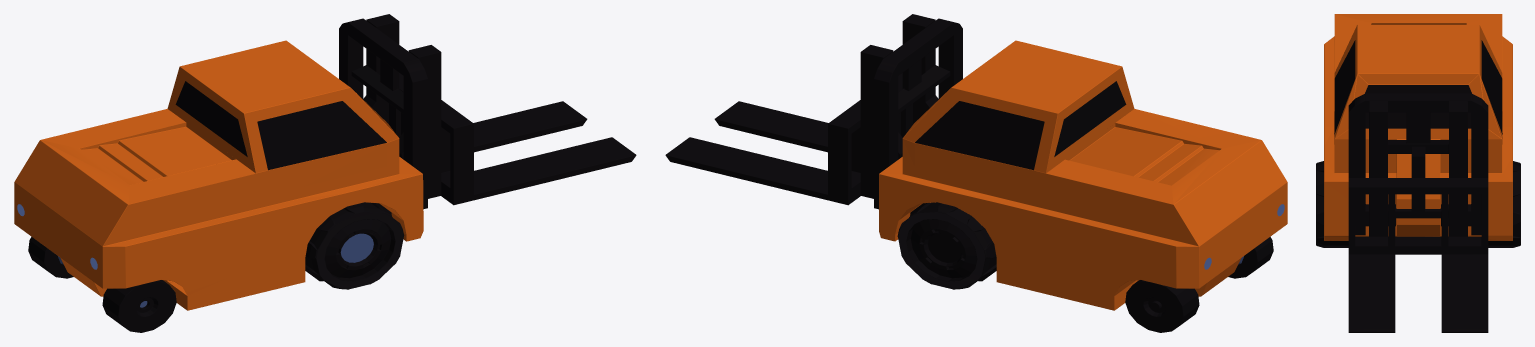
Rendered from Lift-Truck.fbx.
3 renders of one model, left to right at view 1: azimuth 30°, elevation 25°; view 2: azimuth 150°, elevation 25°; view 3: azimuth 270°, elevation 25°, orthographic. The views are drawn at different scales.
Parts seen in each view (by area): view 1: Forklift; view 2: Forklift; view 3: Forklift.
Part boxes in pixels (x1,y1,x2,y2): Forklift: (14,14,636,332); Forklift: (665,14,1287,332); Forklift: (1316,14,1520,332).
Bounding box in the file's own units: 77.51 × 26 × 26.72.
